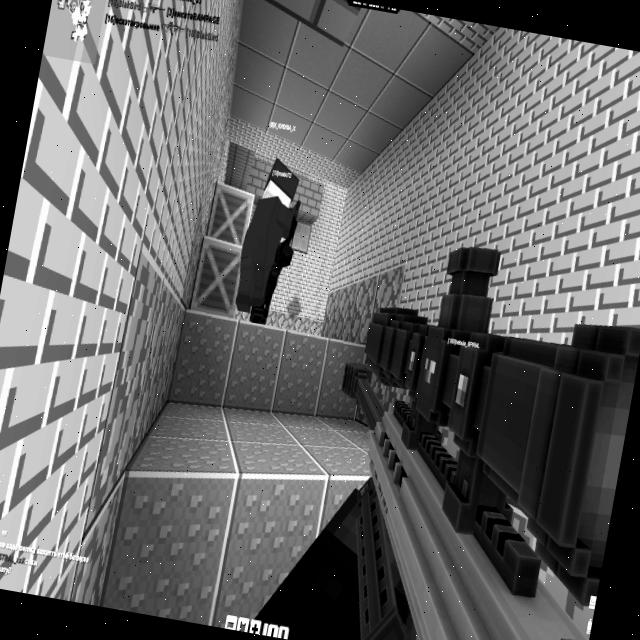Head: (260, 155, 302, 208)
Player: (230, 154, 303, 318), (248, 211, 300, 328)
